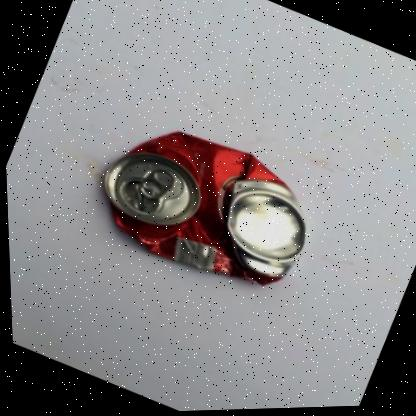Metal: (101, 132, 303, 286)
